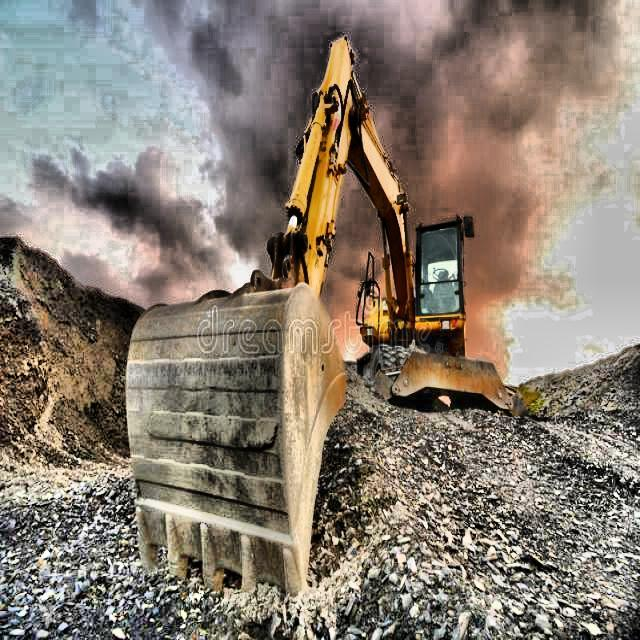excavator: (120, 33, 522, 588)
